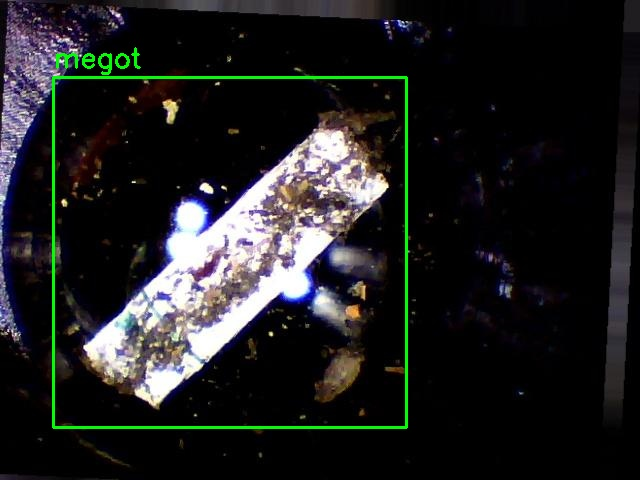megot: (53, 77, 406, 427)
